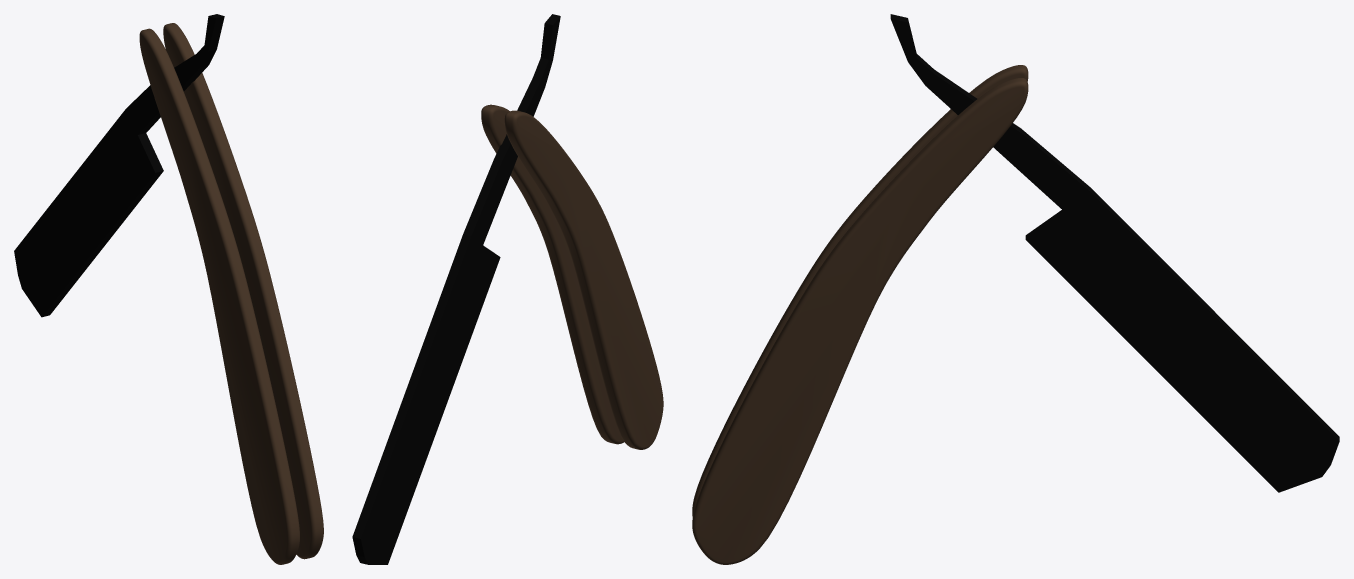
Rendered from barber_razor__2d90a466a23f.glb.
The picture shows the model from 3 angles, left to right: view 1: azimuth 30°, elevation 25°; view 2: azimuth 150°, elevation 25°; view 3: azimuth 270°, elevation 25°; orthographic projection. The views are drawn at different scales.
Parts seen in each view (by area): view 1: scale, blade, scale.001; view 2: blade, scale, scale.001; view 3: scale.001, blade, scale.
Boxes of the visible parts, bbox=[...] form: scale: bbox=[139, 28, 299, 564]; blade: bbox=[14, 14, 224, 317]; scale.001: bbox=[163, 23, 323, 559]; blade: bbox=[352, 14, 560, 564]; scale: bbox=[504, 110, 663, 449]; scale.001: bbox=[481, 104, 624, 444]; scale.001: bbox=[692, 78, 1028, 564]; blade: bbox=[890, 14, 1339, 492]; scale: bbox=[692, 65, 1028, 516].
Size of the model in its own units: 0.0106 by 0.1371 by 0.1484.
